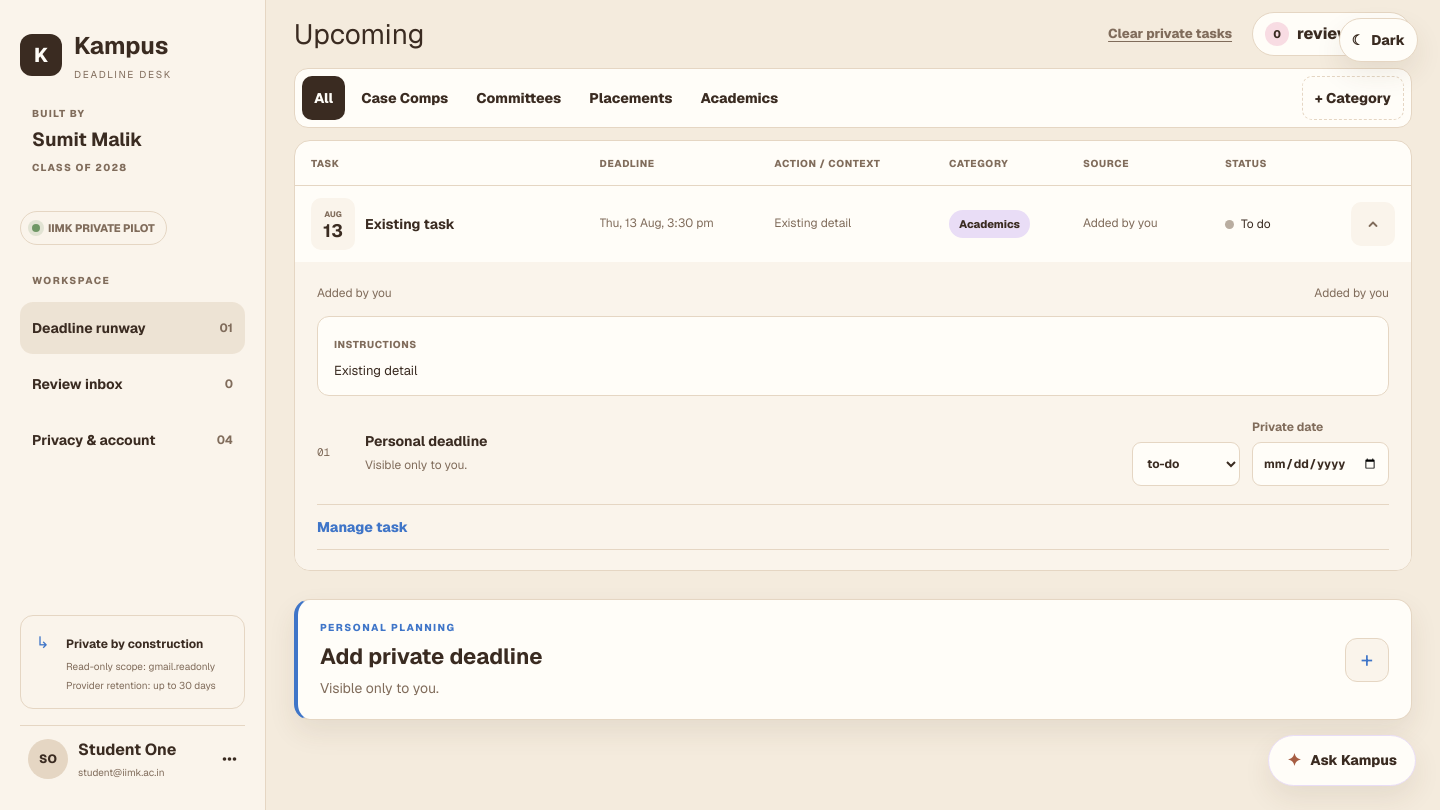
it: dashboard local actions › deletes a private task in place after the accessible confirmation dialog
(page scrolled)
Click the heading "Manage task". click: click(363, 527)
box: [317,518,408,536]
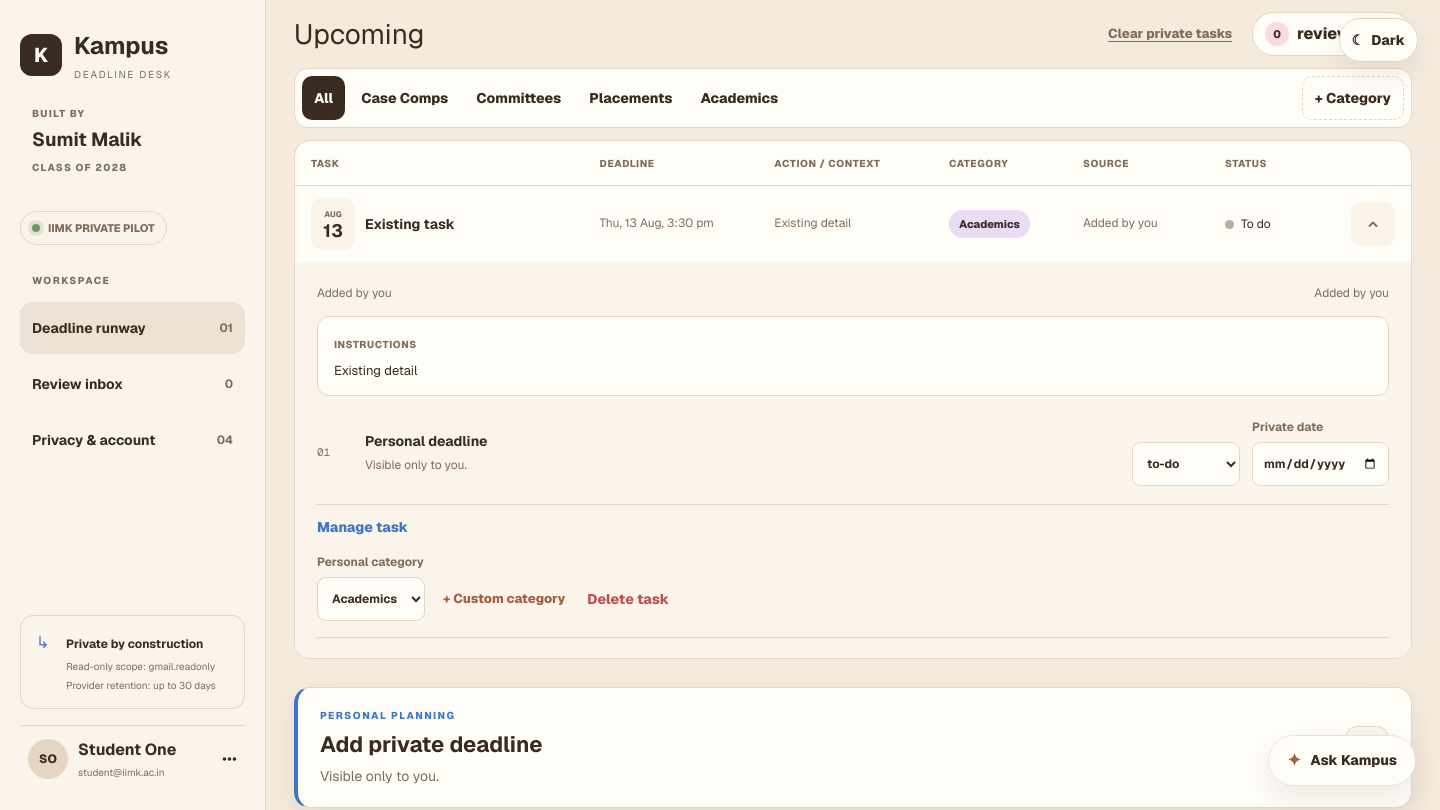
Click the button "Delete task". click: click(628, 599)
box: [583,577,673,621]
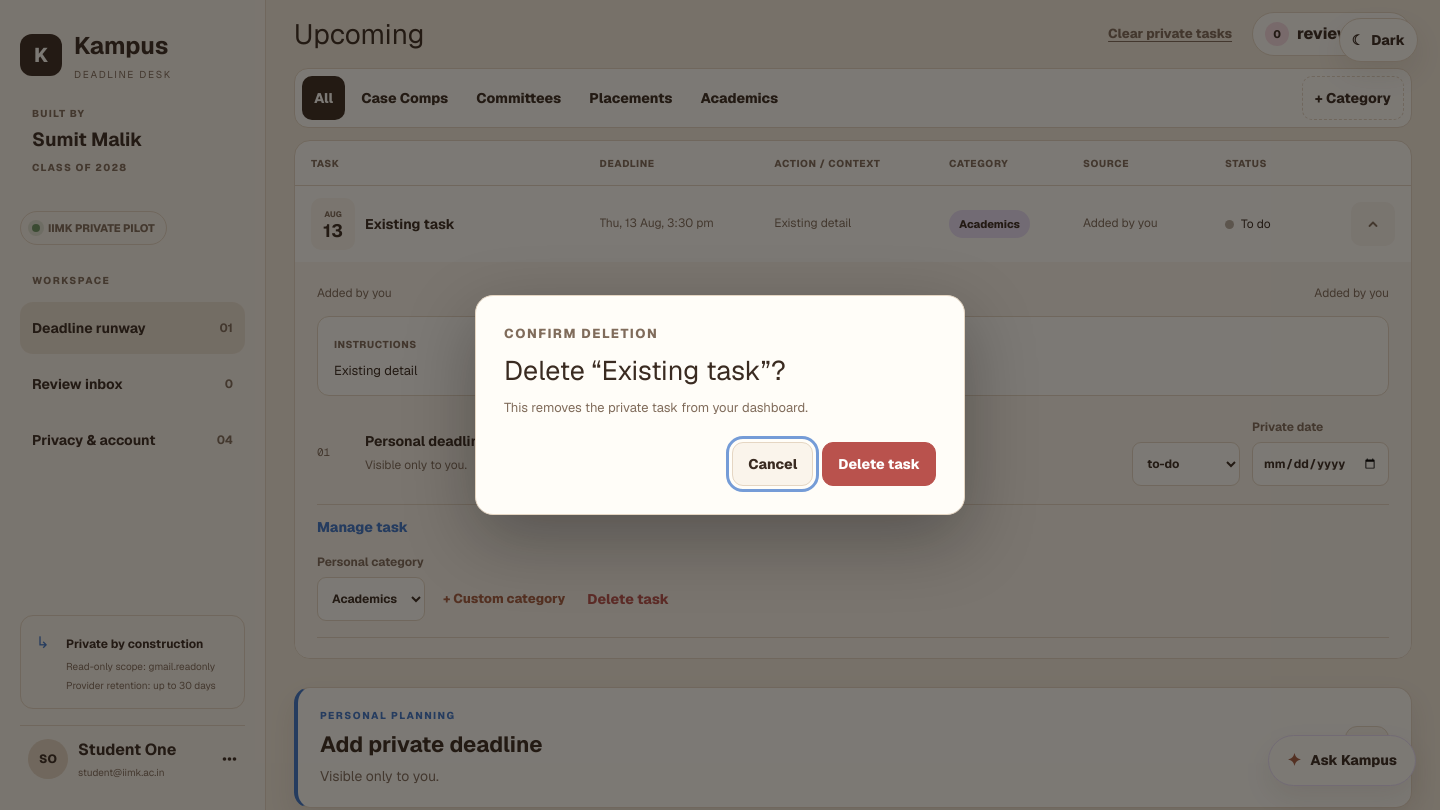
Click the button "Delete task". click: click(879, 464)
box: [822,442,936,486]
(page scrolled)
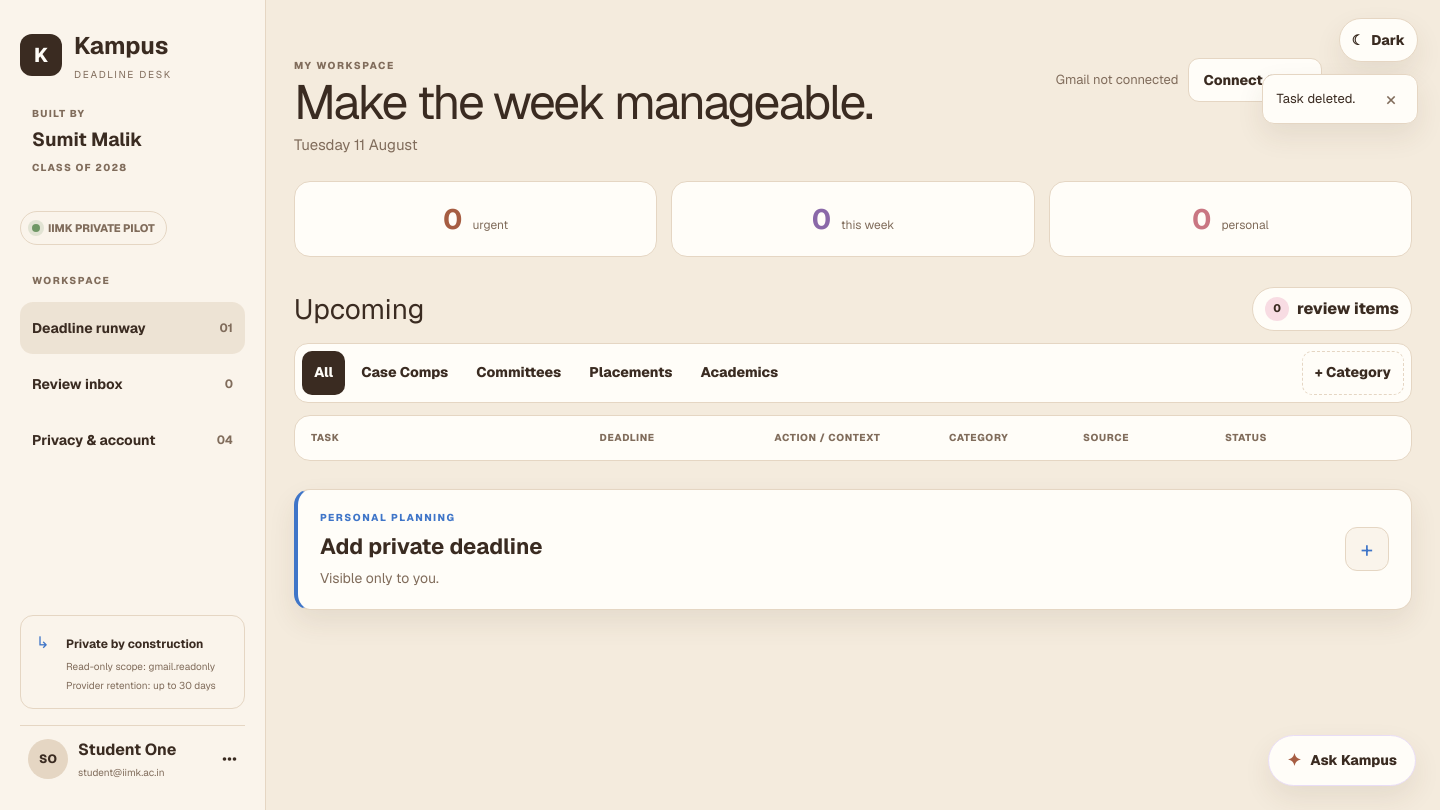
Expected: the button "Existing task" is gone
Expected: the message shows "Task deleted", [1277,90,1355,107]
